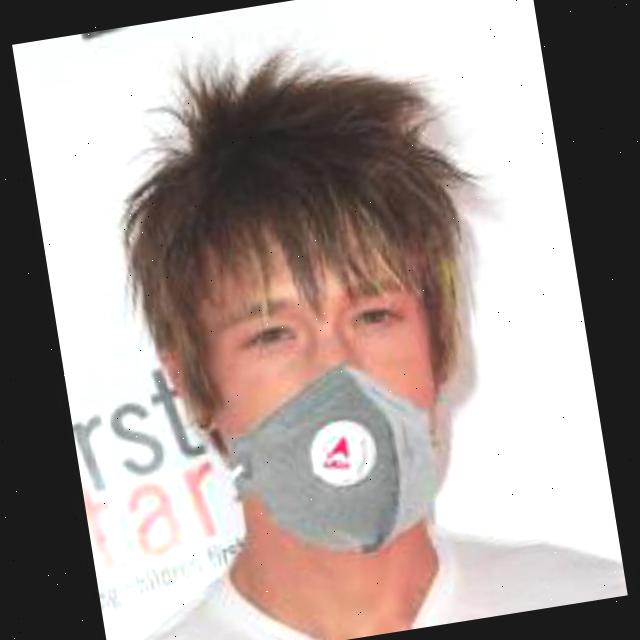suspicion: (112, 45, 552, 595)
